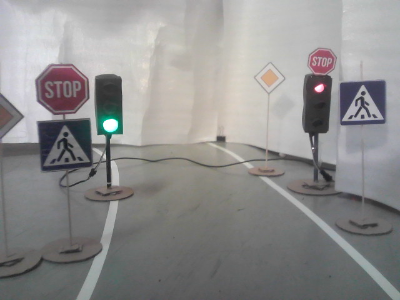crosswalk: (41, 120, 92, 168), (340, 83, 385, 124)
priority_road: (255, 64, 284, 93)
stop: (37, 66, 89, 113)
trafficlight_green: (96, 76, 122, 134)
trafficlight_red: (305, 77, 330, 133)
